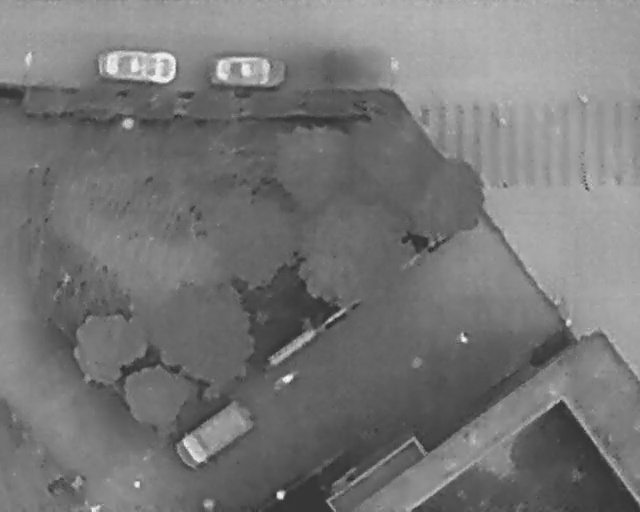Bicycle: (268, 367, 300, 396)
Car: (169, 396, 256, 471), (95, 45, 177, 84), (205, 54, 287, 88)
